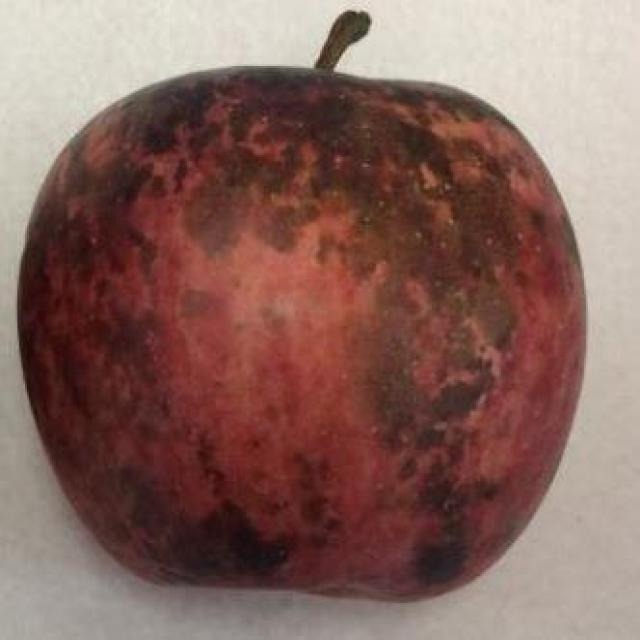Rotten: (22, 51, 594, 608)
